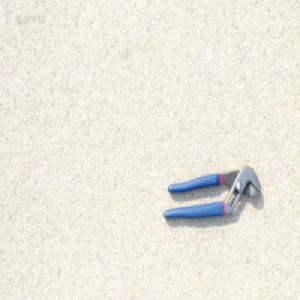Pliers: (162, 162, 262, 221)
